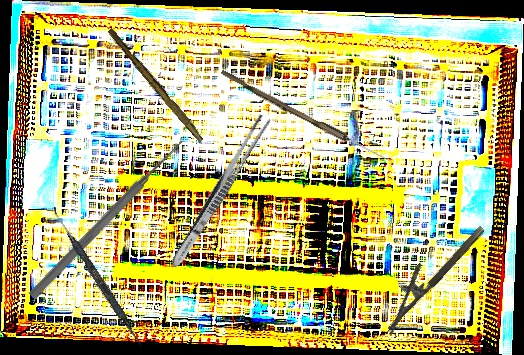Dressing Forceps: (167, 112, 272, 271)
Needle Holder: (369, 212, 487, 336)
Pusher: (26, 136, 188, 302)
Scalpel Handle: (104, 27, 208, 143)
Spatula Surgical: (47, 206, 147, 348)
Surgical Spoon: (218, 69, 395, 166)
